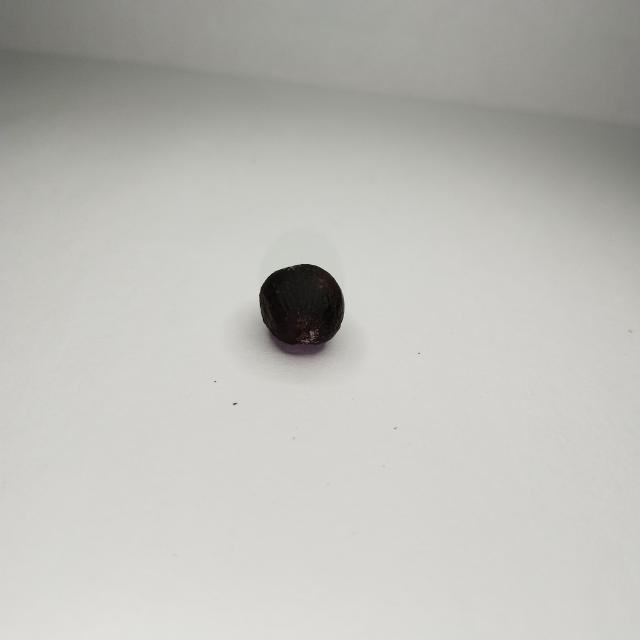Danado: (260, 264, 345, 348)
